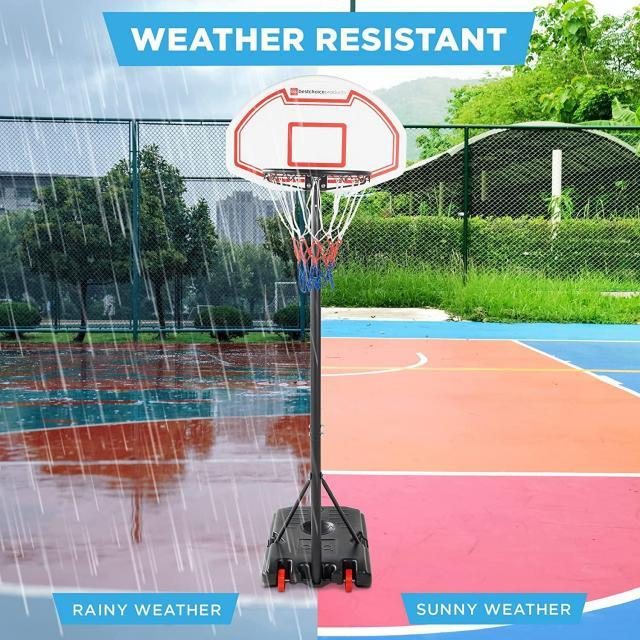hoop: (262, 168, 372, 292)
